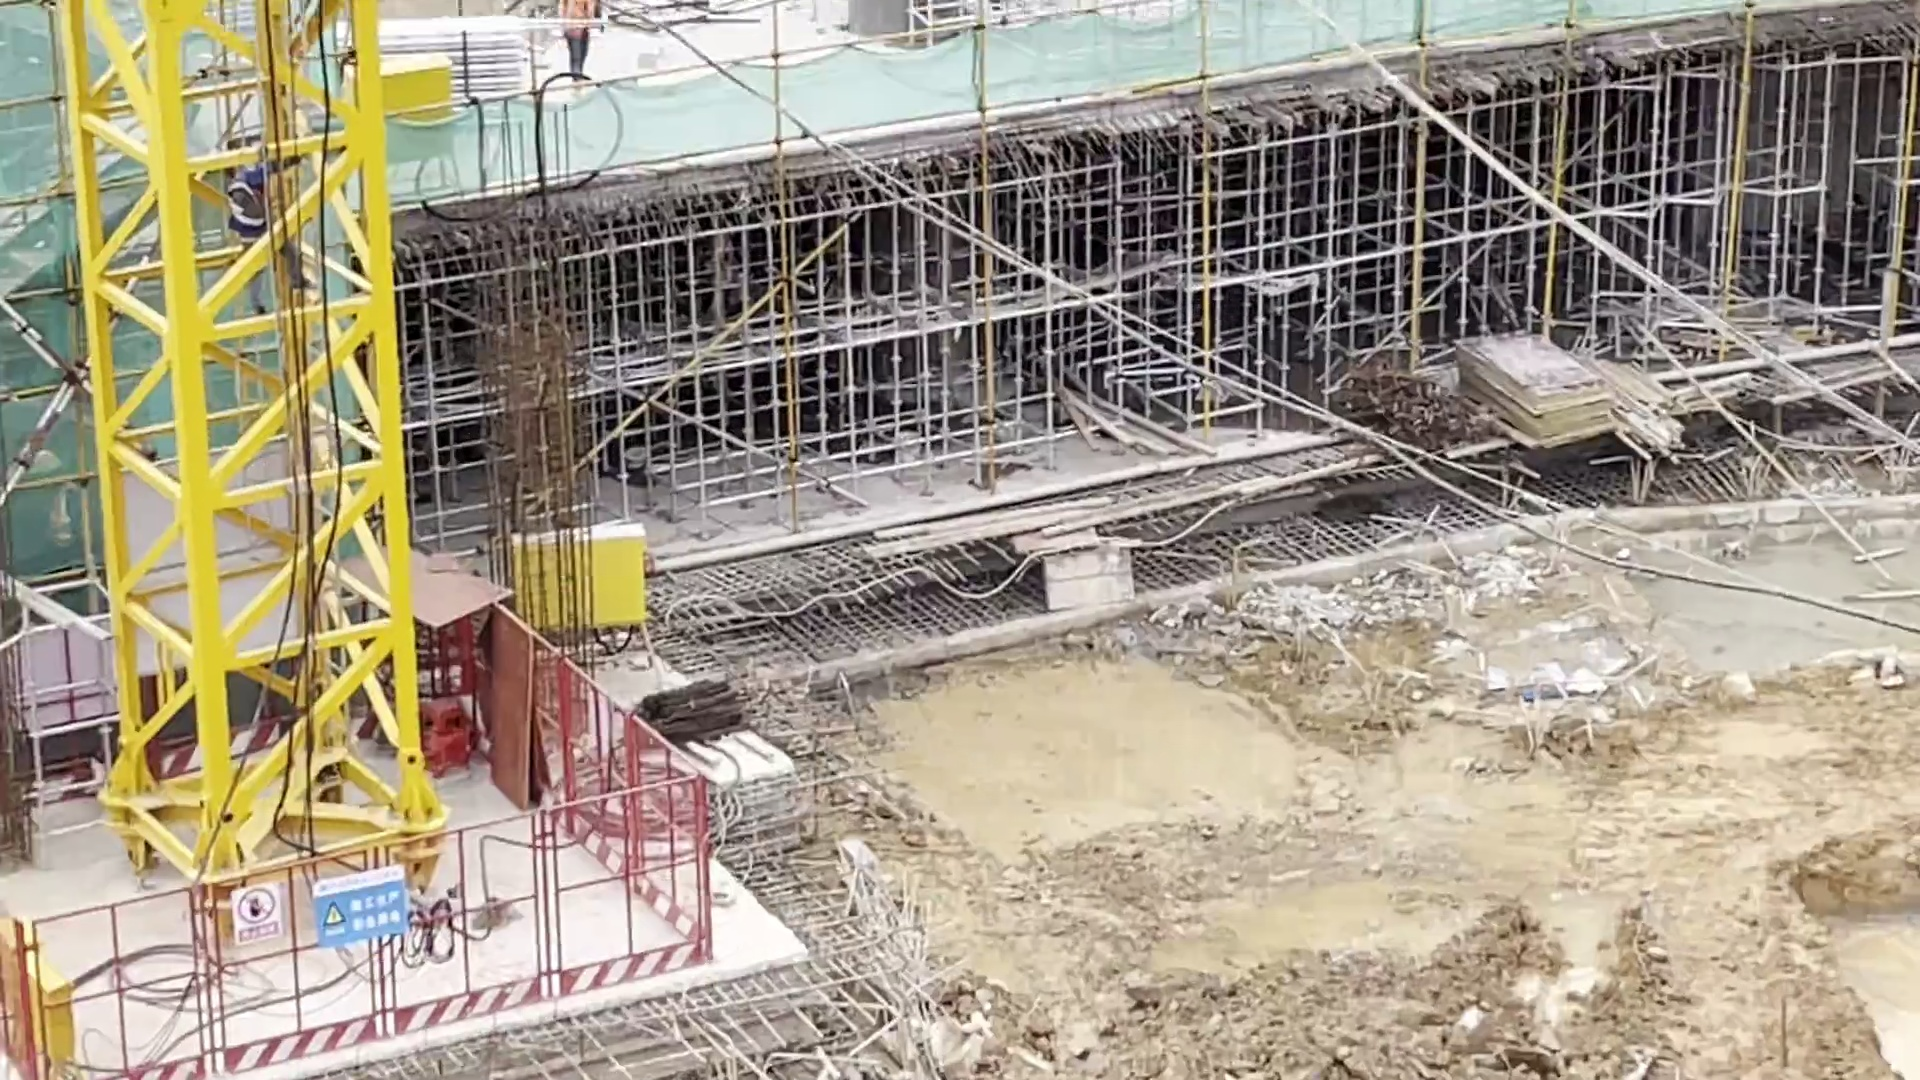board: (1452, 330, 1607, 443)
ebox: (505, 529, 659, 657), (373, 60, 456, 196), (12, 927, 68, 1080)
fence: (534, 649, 696, 929), (211, 847, 382, 1070), (387, 809, 536, 1020), (544, 798, 707, 986), (48, 891, 202, 1075)
person: (227, 158, 317, 309), (559, 3, 599, 86)
scaffold: (368, 23, 527, 87)
slogan: (313, 865, 404, 950), (228, 880, 276, 948)
vest: (221, 175, 260, 235), (567, 1, 593, 36)
wood: (1578, 345, 1675, 461)
